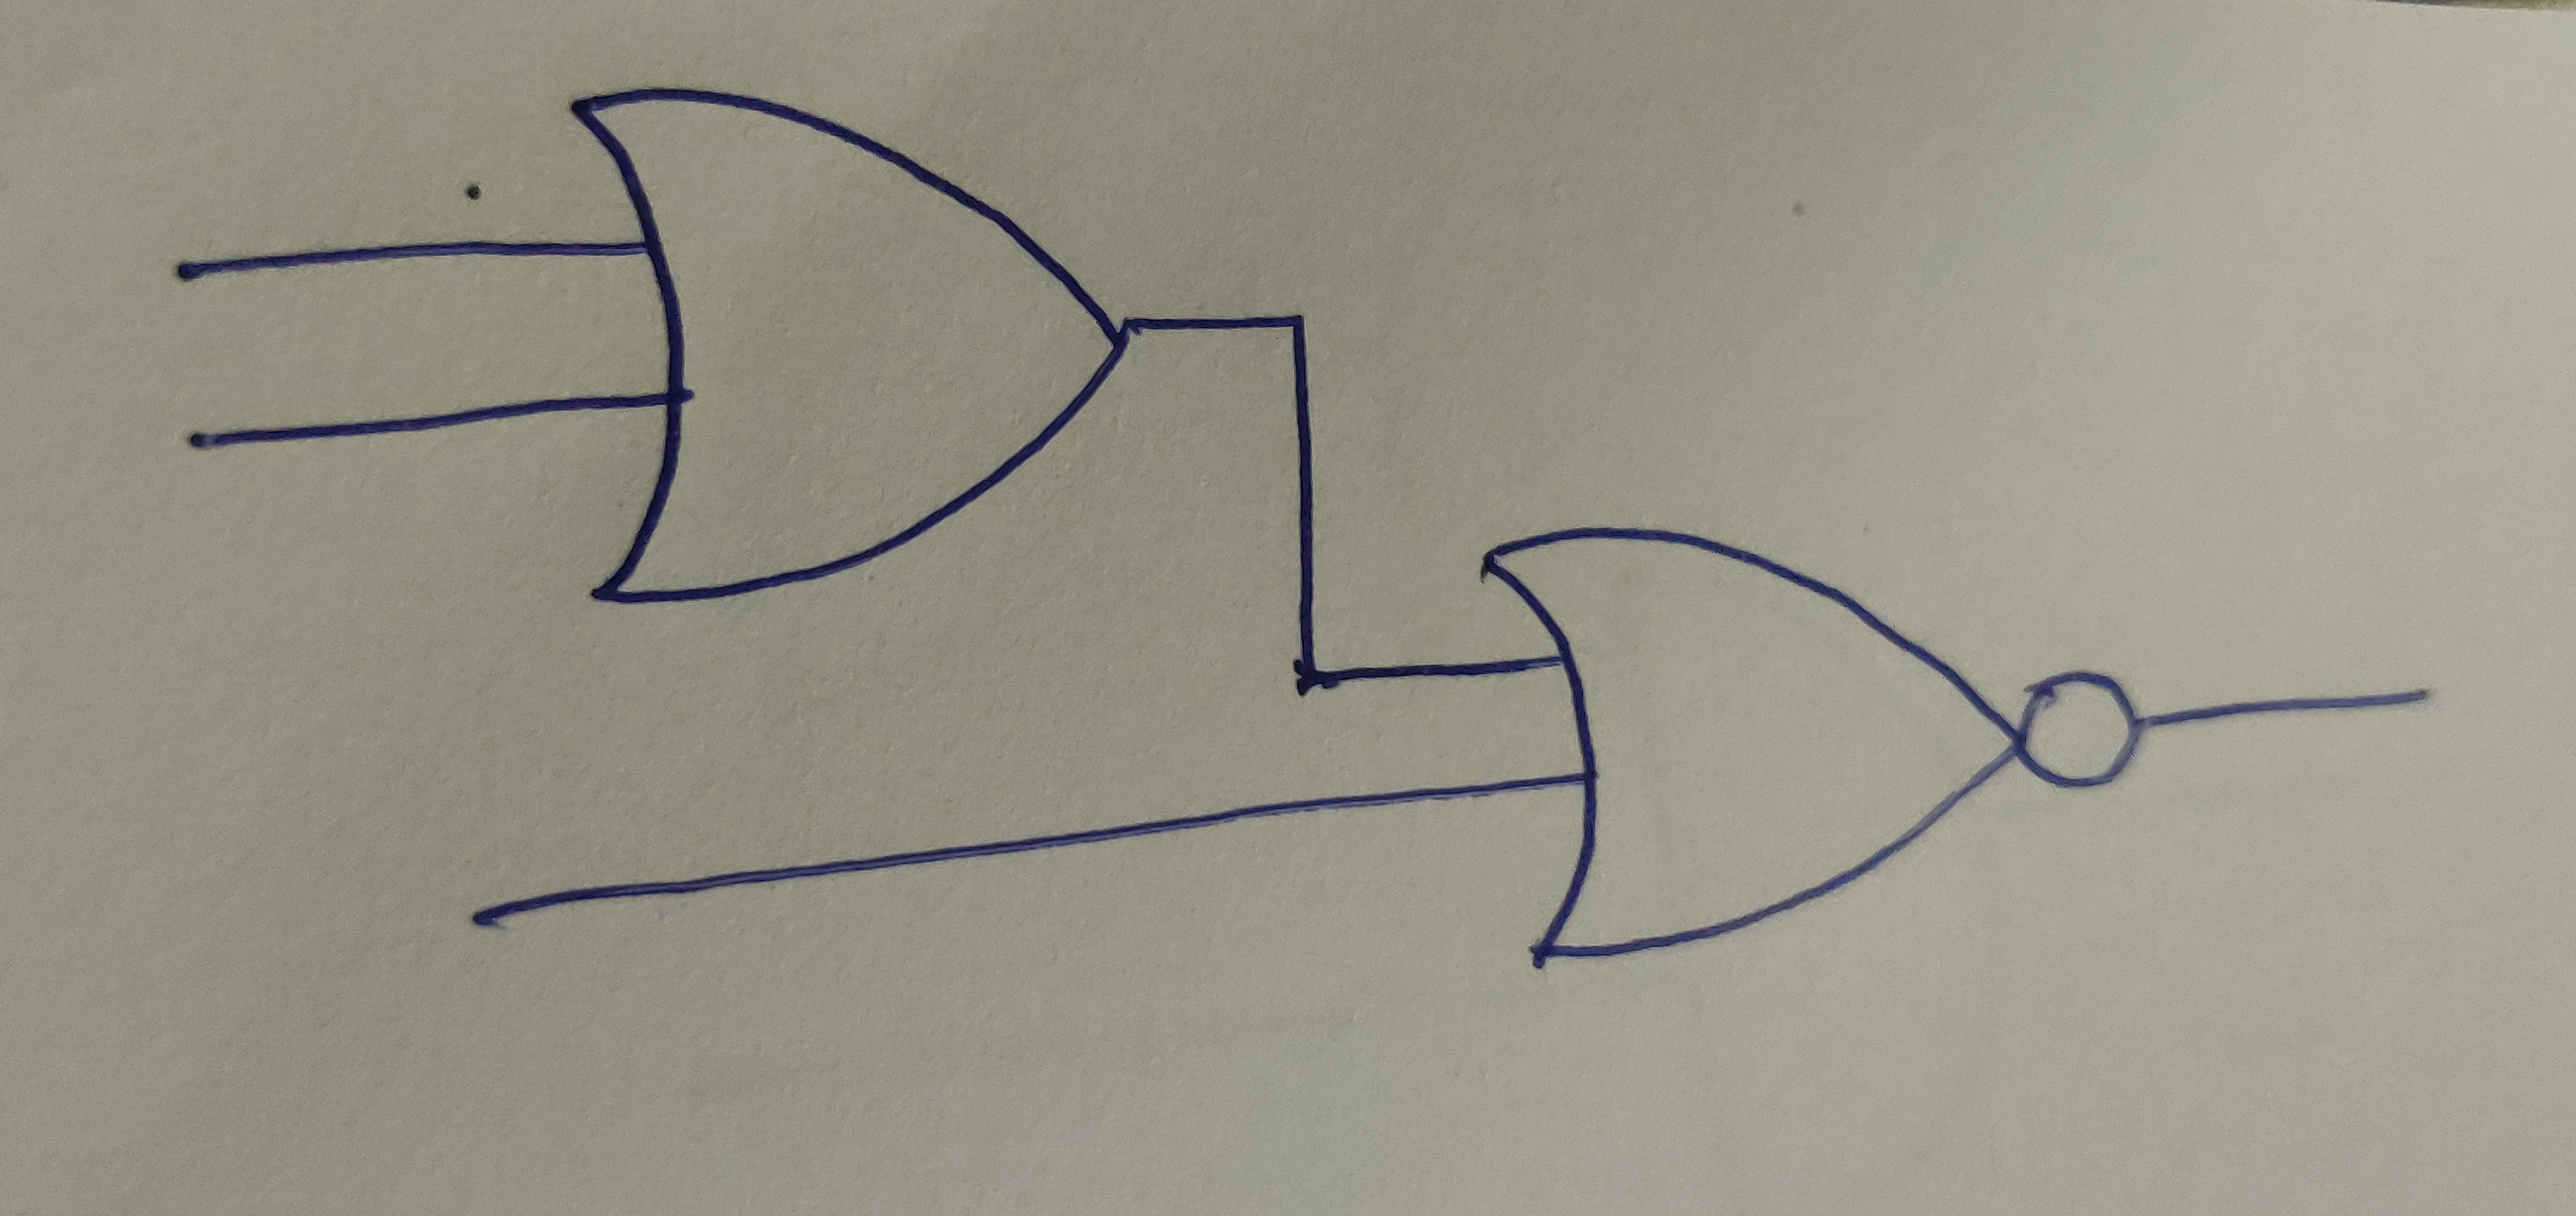not: (2011, 672, 2144, 790)
or: (565, 94, 1127, 606), (1470, 526, 2016, 963)
